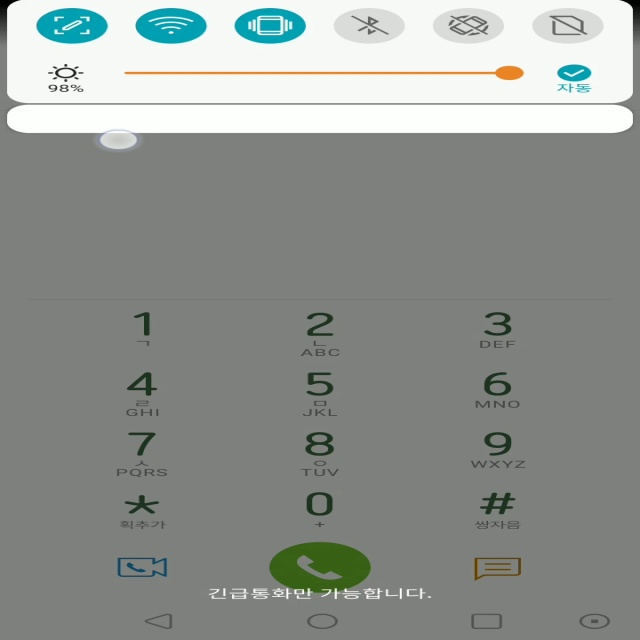Cursor: (96, 129, 141, 151)
